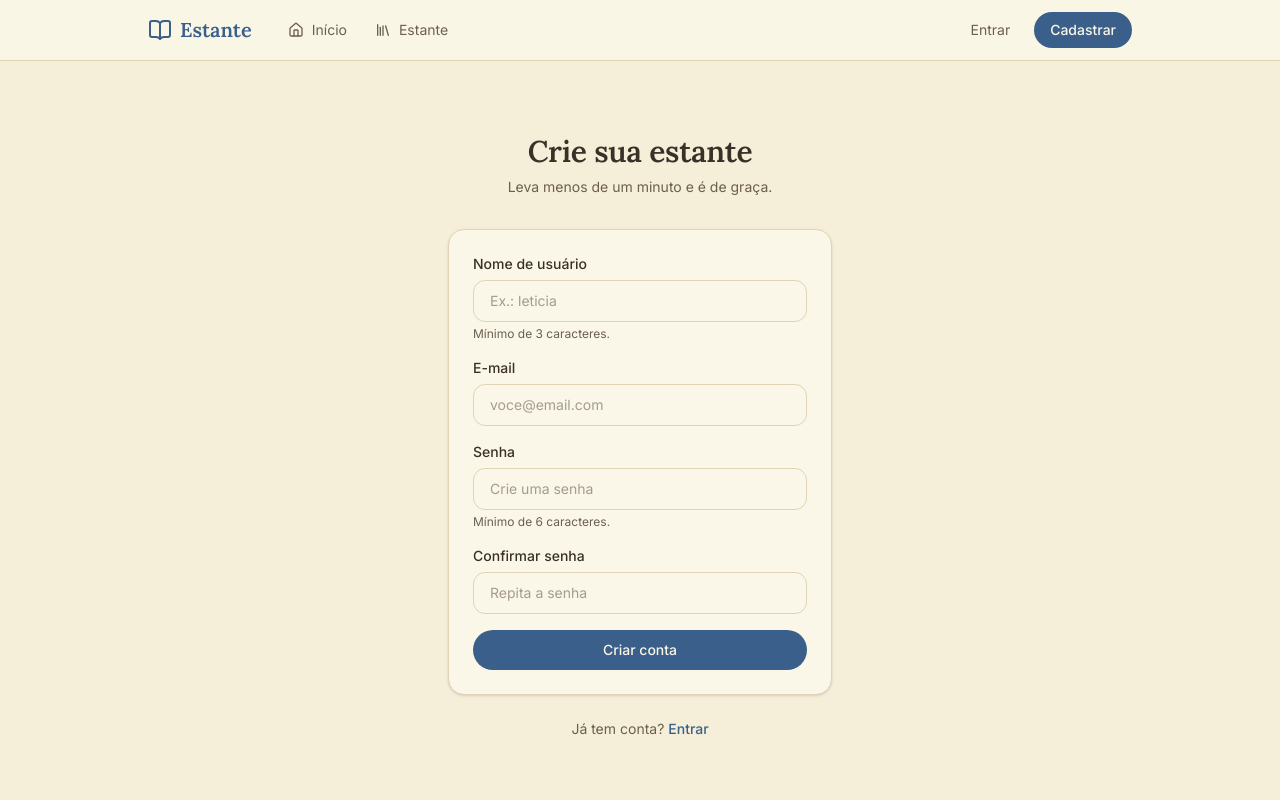
Test: validação do cadastro › valida todos os campos de uma vez
Click the button "Criar conta" at (640, 650), box [473,630,807,670]
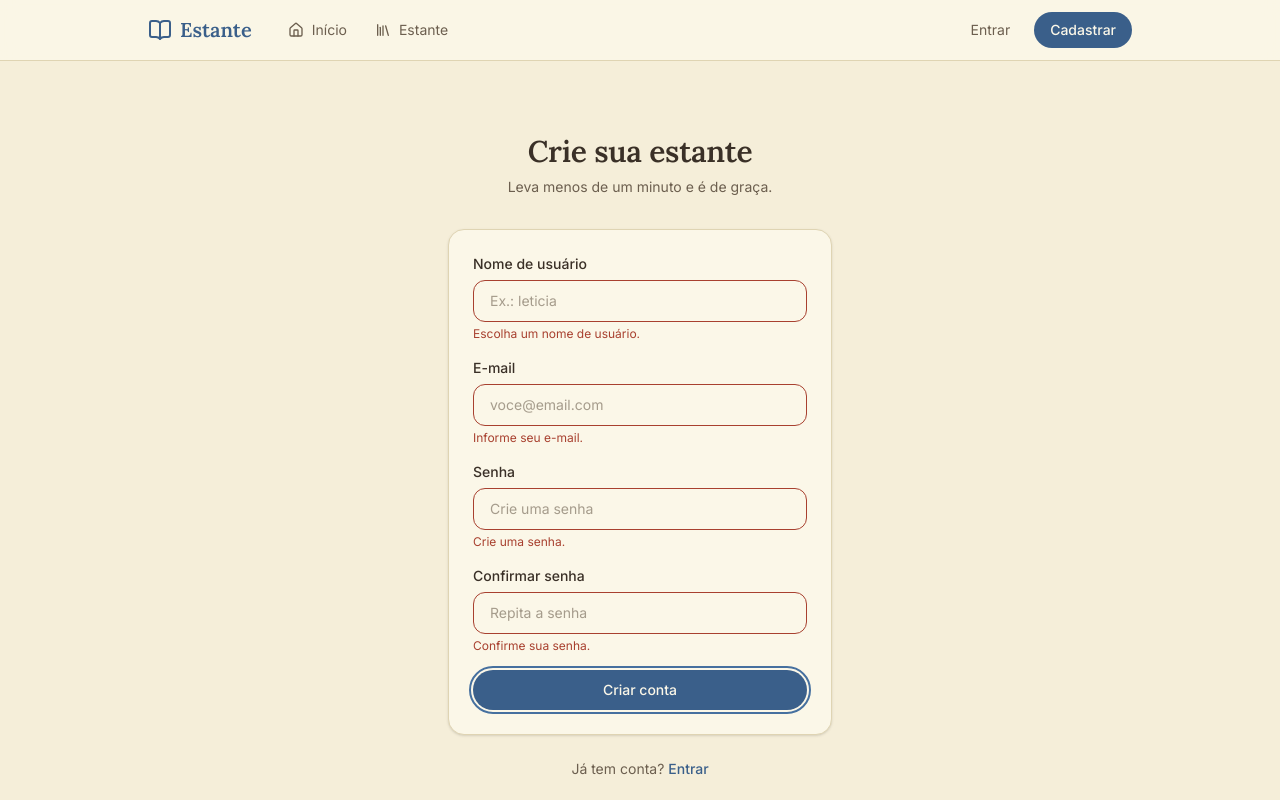
Now the text "Escolha um nome de usuário." is shown, box [473,326,640,341]
Now the text "Informe seu e-mail." is shown, box [473,430,583,445]
Now the text "Crie uma senha." is shown, box [473,534,565,549]
